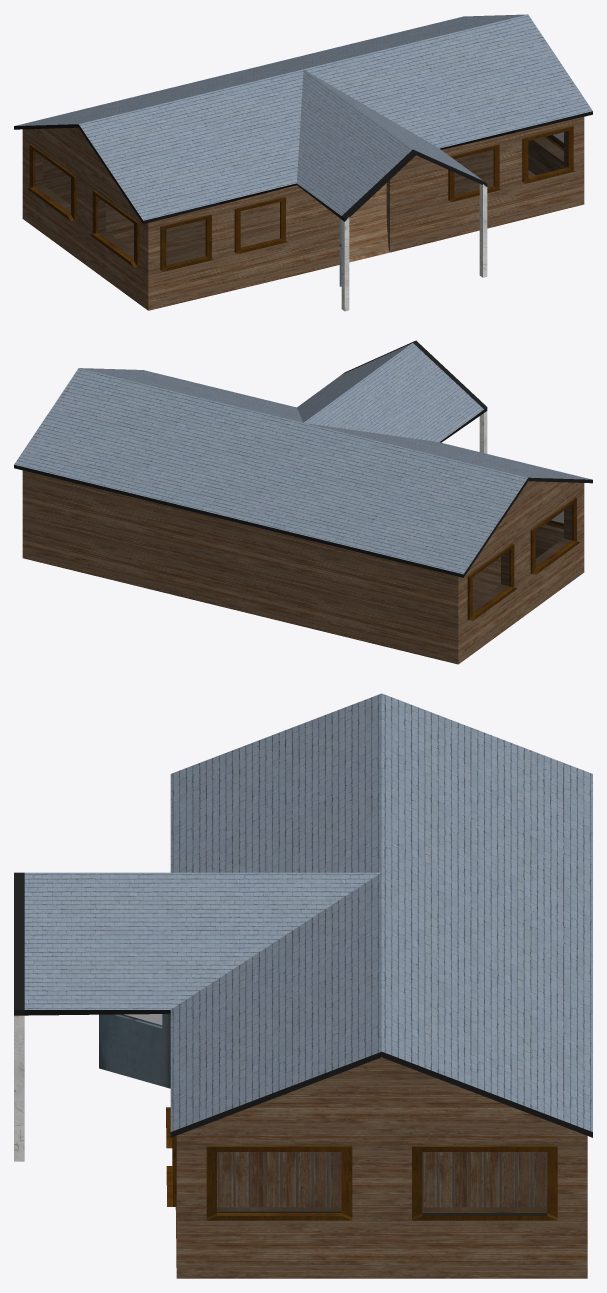
3 views of the same model, one above another, from view 1: azimuth 30°, elevation 25°; view 2: azimuth 150°, elevation 25°; view 3: azimuth 270°, elevation 25° (orthographic). The views are drawn at different scales.
Visible parts, largest first — view 1: Pavilion 1; view 2: Pavilion 1; view 3: Pavilion 1.
Boxes of the visible parts, bbox=[...] form: Pavilion 1: bbox=[14, 14, 592, 311]; Pavilion 1: bbox=[14, 340, 592, 664]; Pavilion 1: bbox=[14, 693, 592, 1278].
Size of the model in its own units: 18.13 by 5.5 by 12.38.
7 materials, 6 textured.
